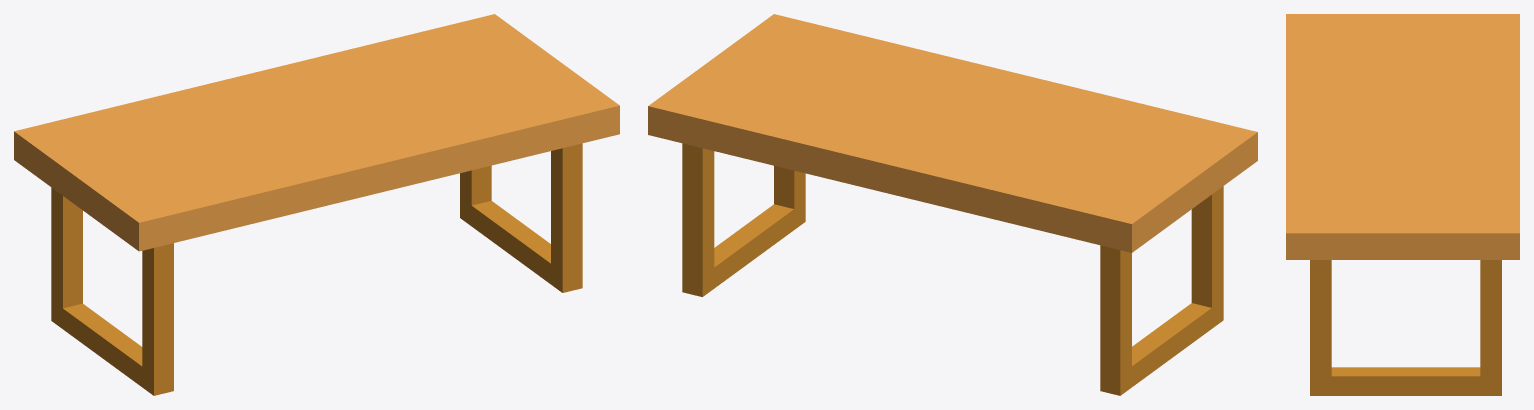
Rendered from table03.fbx.
3 renders of one model, left to right at view 1: azimuth 30°, elevation 25°; view 2: azimuth 150°, elevation 25°; view 3: azimuth 270°, elevation 25°, orthographic. The views are drawn at different scales.
Parts seen in each view (by area): view 1: table03; view 2: table03; view 3: table03.
Boxes of the visible parts, x1,y1,x2,y2 form: table03: (14, 14, 619, 395); table03: (648, 14, 1257, 395); table03: (1286, 14, 1519, 395).
Size of the model in its own units: 35.25 by 13.04 by 15.89.
Materials: 1 (1 with a texture image).
